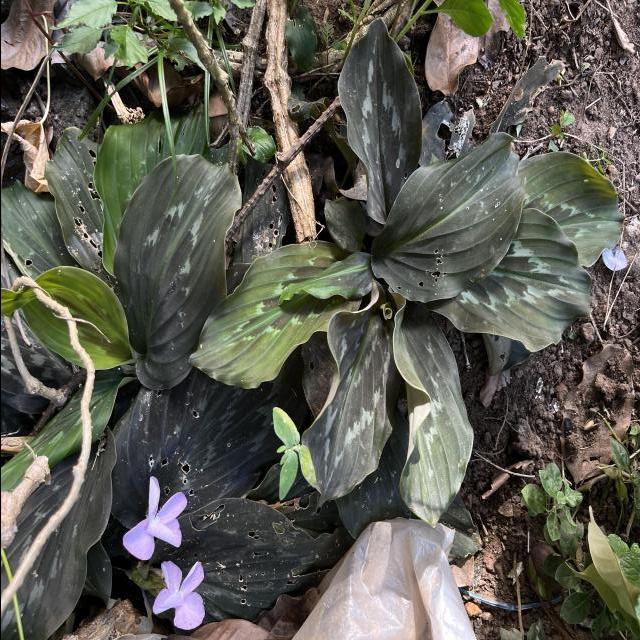Kaempferia galanga linn: (112, 151, 245, 393), (367, 128, 531, 308), (186, 237, 370, 392), (421, 204, 594, 354), (302, 276, 403, 510), (384, 282, 474, 532), (335, 16, 423, 226), (274, 248, 378, 308)
